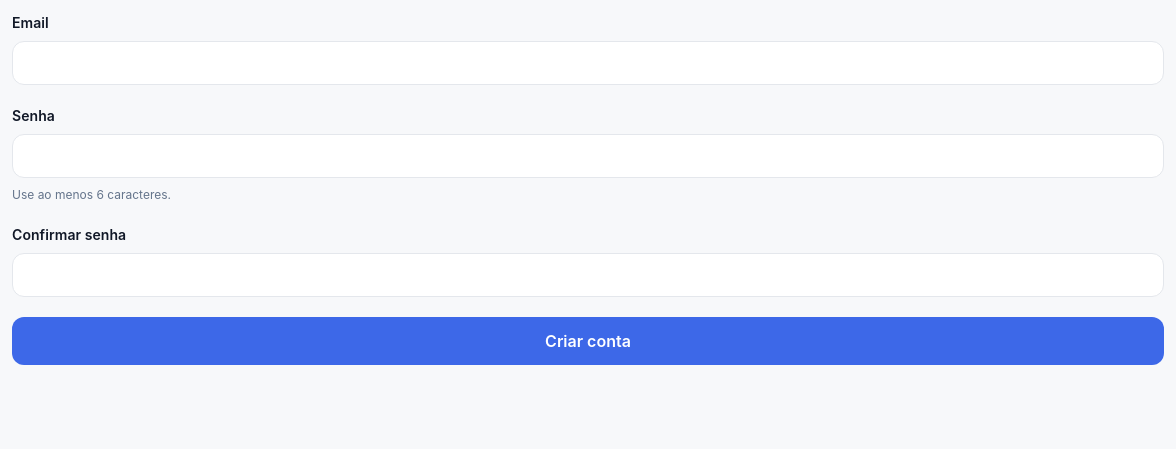
Test: SignUpForm › submits valid credentials and announces a non-sensitive success message
Type "willy@example.com" into the field labelled "Email" at (588, 63), box [12,41,1164,85]
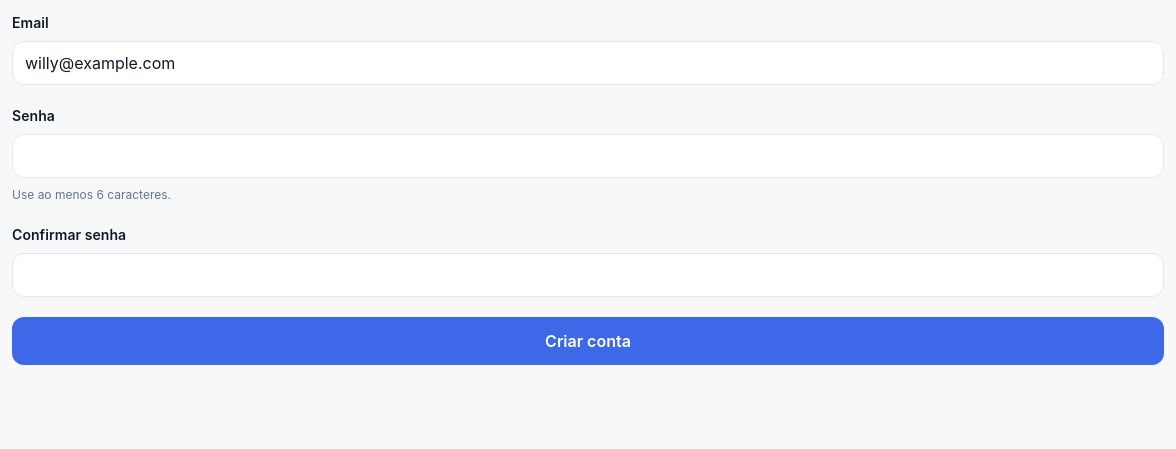
Type "very-secure-password" into the password field labelled "Senha" at (588, 156), box [12,134,1164,178]
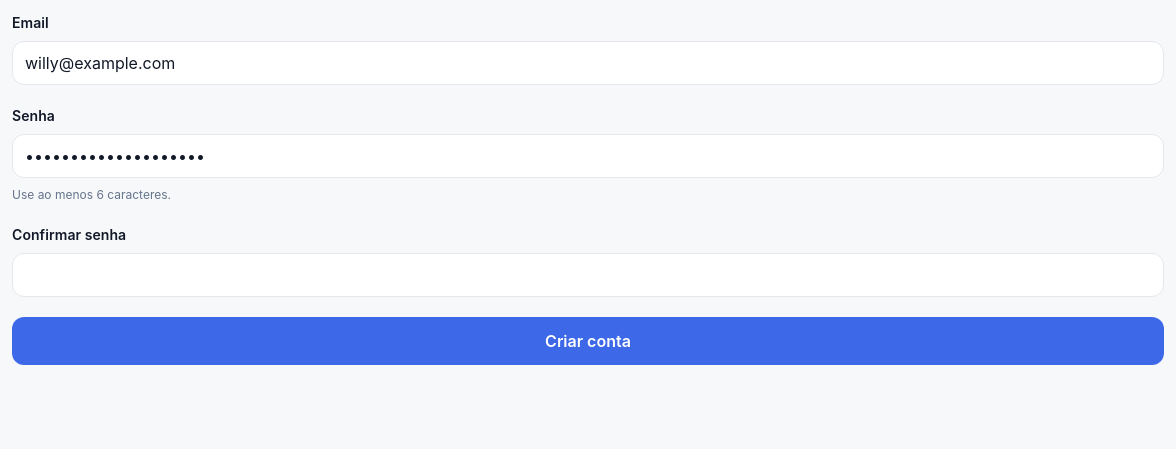
Type "very-secure-password" into the password field labelled "Confirmar senha" at (588, 275), box [12,253,1164,297]
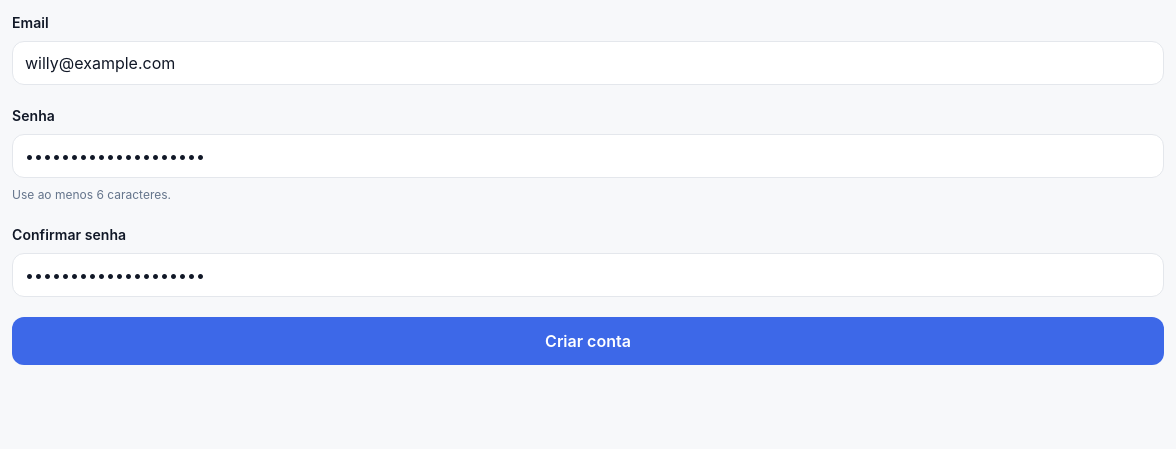
Click the button "Criar conta" at (588, 341), box [12,317,1164,365]
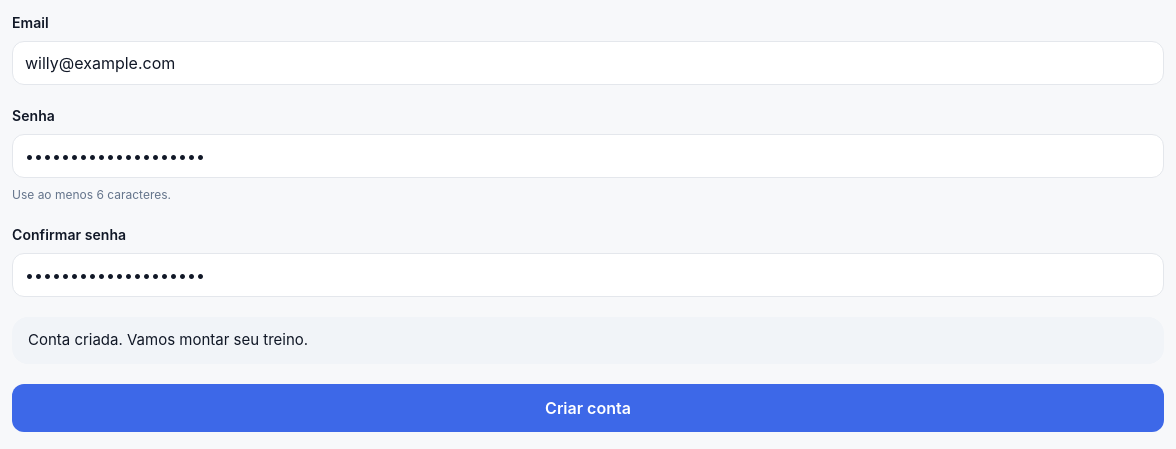
Expected: the message shows "Conta criada.", [28,330,308,349]
